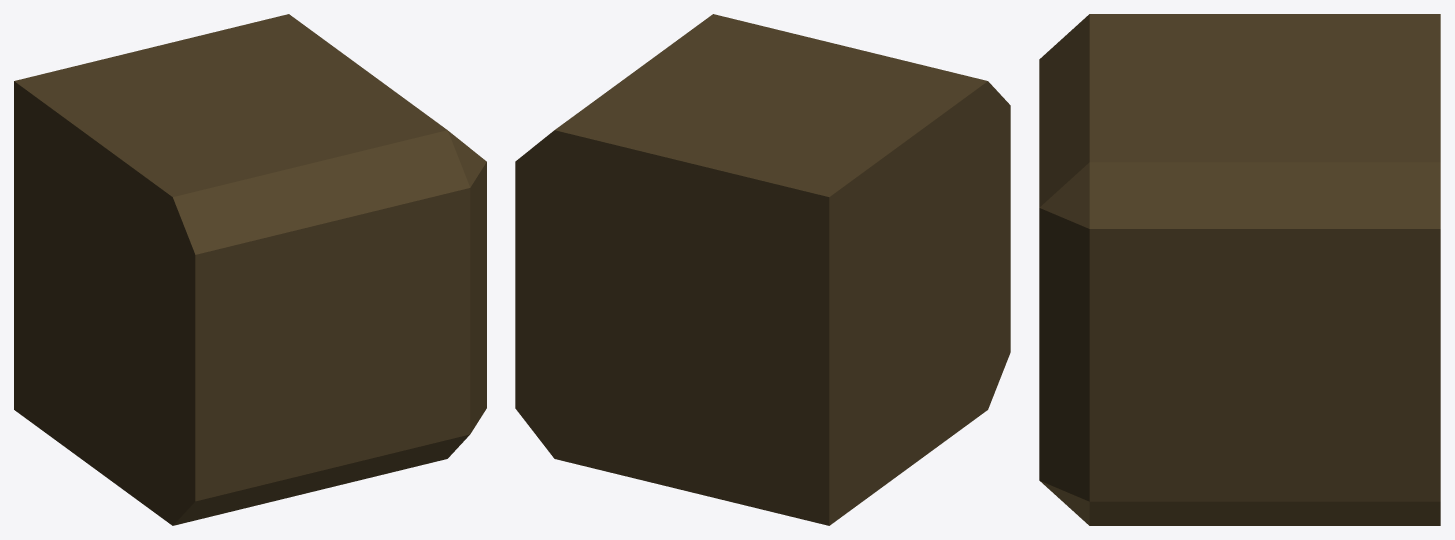
Rendered from fantasy_divider_wood_1_corner.fbx.
3 views of the same model, side by side, from view 1: azimuth 30°, elevation 25°; view 2: azimuth 150°, elevation 25°; view 3: azimuth 270°, elevation 25° (orthographic). The views are drawn at different scales.
Visible parts, largest first — view 1: Cube.019; view 2: Cube.019; view 3: Cube.019.
Boxes of the visible parts, box(x1,y1,x2,y2) form: Cube.019: box(14, 14, 486, 525); Cube.019: box(515, 14, 1010, 525); Cube.019: box(1039, 14, 1440, 525).
Bounding box in the file's own units: 40 × 40 × 40.
